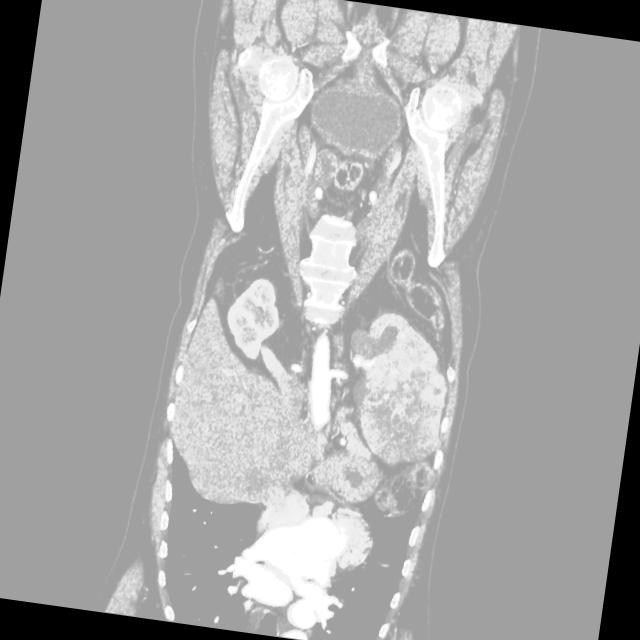TUMOR: (94, 258, 477, 477)
